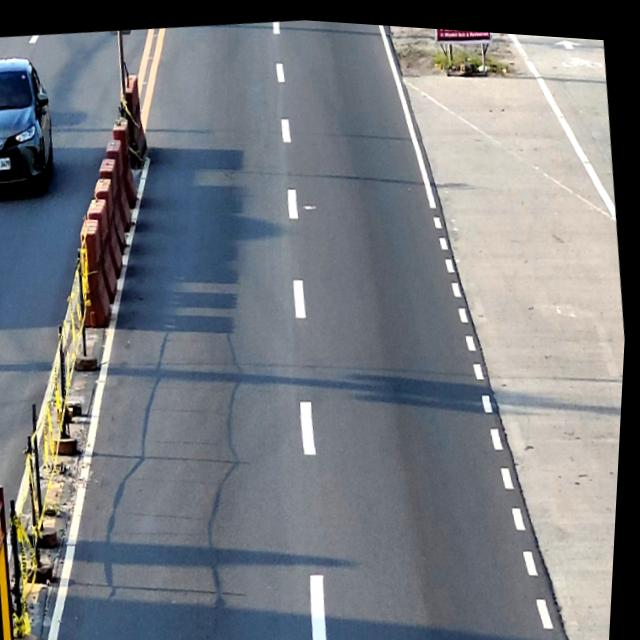License-Plate: (0, 51, 65, 202), (0, 155, 13, 172)
